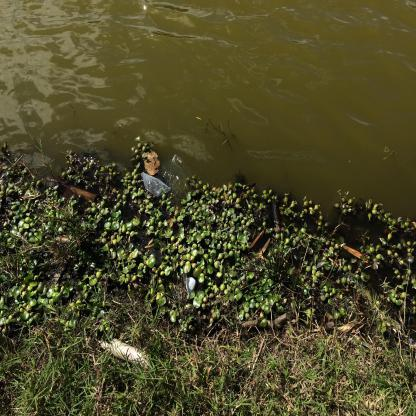diger: (110, 339, 150, 371)
plastik: (143, 173, 173, 198)
